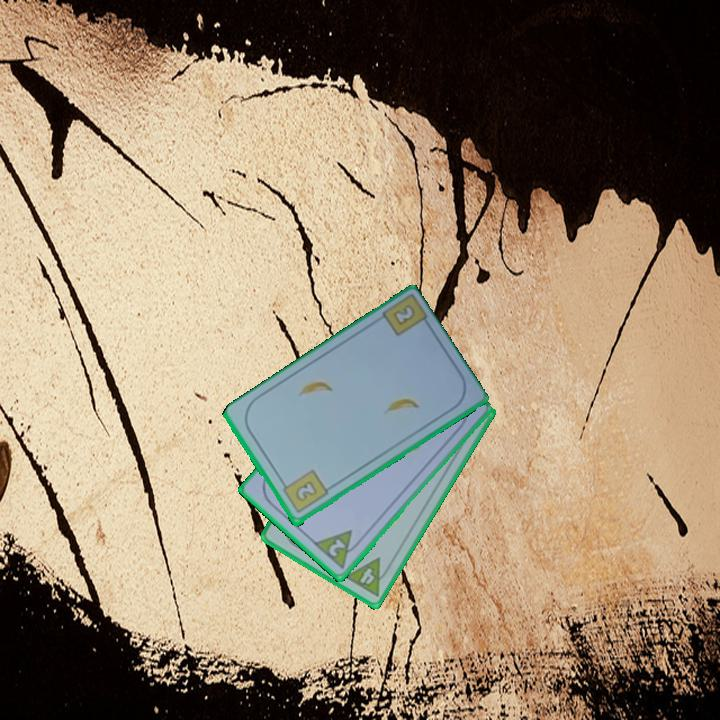2b: (277, 467, 331, 517), (389, 301, 418, 329)
2p: (310, 527, 365, 573)
4p: (341, 554, 394, 599)
